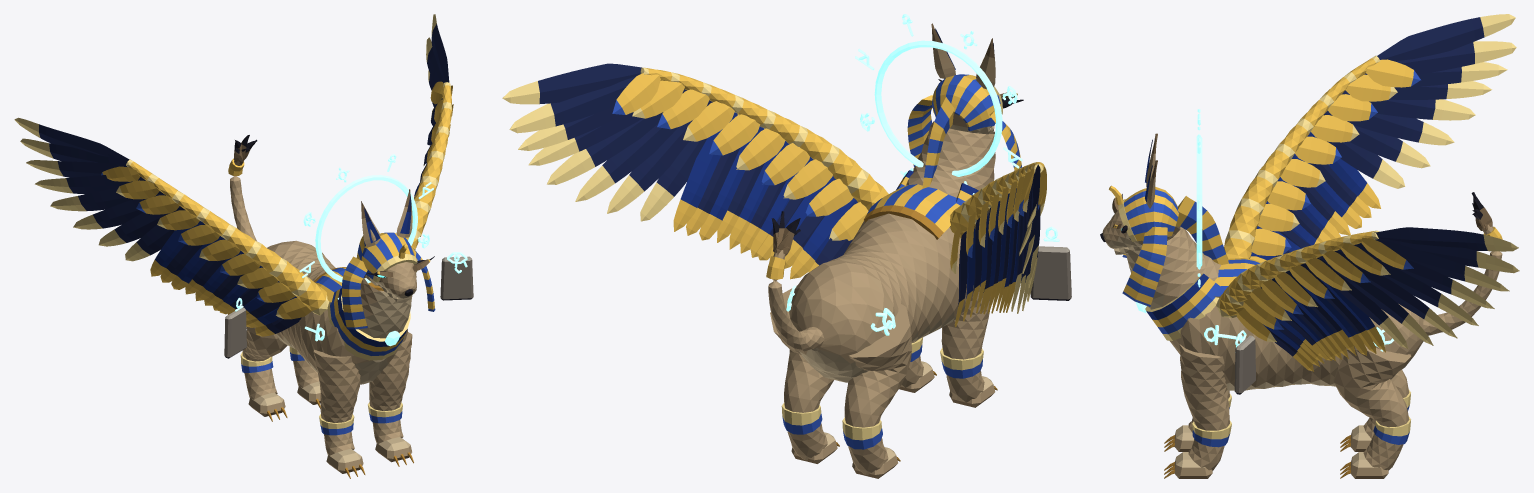
Rendered from RuneSphinx.fbx.
3 renders of one model, left to right at view 1: azimuth 30°, elevation 25°; view 2: azimuth 150°, elevation 25°; view 3: azimuth 270°, elevation 25°, orthographic. The views are drawn at different scales.
Visible parts, largest first — view 1: RuneSphinx_Body, RuneSphinx_Glow_59c4ff; view 2: RuneSphinx_Body, RuneSphinx_Glow_59c4ff; view 3: RuneSphinx_Body, RuneSphinx_Glow_59c4ff.
Boxes of the visible parts, x1,y1,x2,y2 form: RuneSphinx_Body: (14,14,473,478); RuneSphinx_Glow_59c4ff: (235,154,467,346); RuneSphinx_Body: (502,23,1071,478); RuneSphinx_Glow_59c4ff: (786,14,1059,335); RuneSphinx_Body: (1100,14,1519,478); RuneSphinx_Glow_59c4ff: (1135,109,1394,351).
Size of the model in its own units: 3.81 by 2.58 by 2.91.
Materials: 3 (1 with a texture image).
